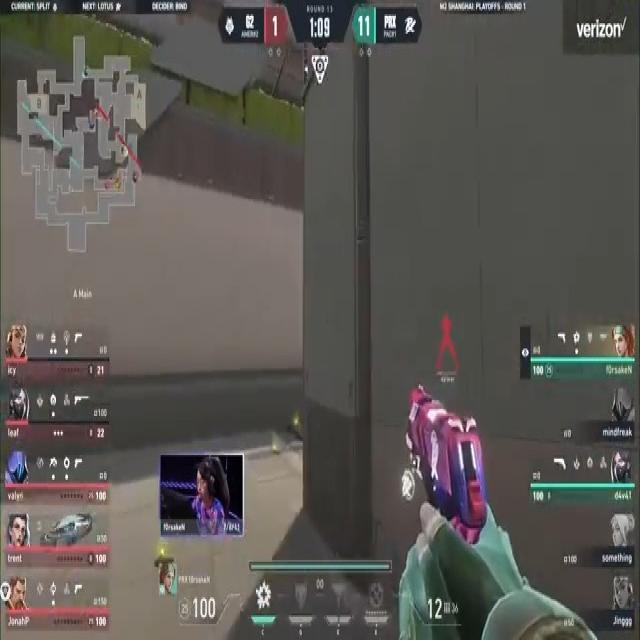enemy behind wall: (437, 310, 459, 382)
